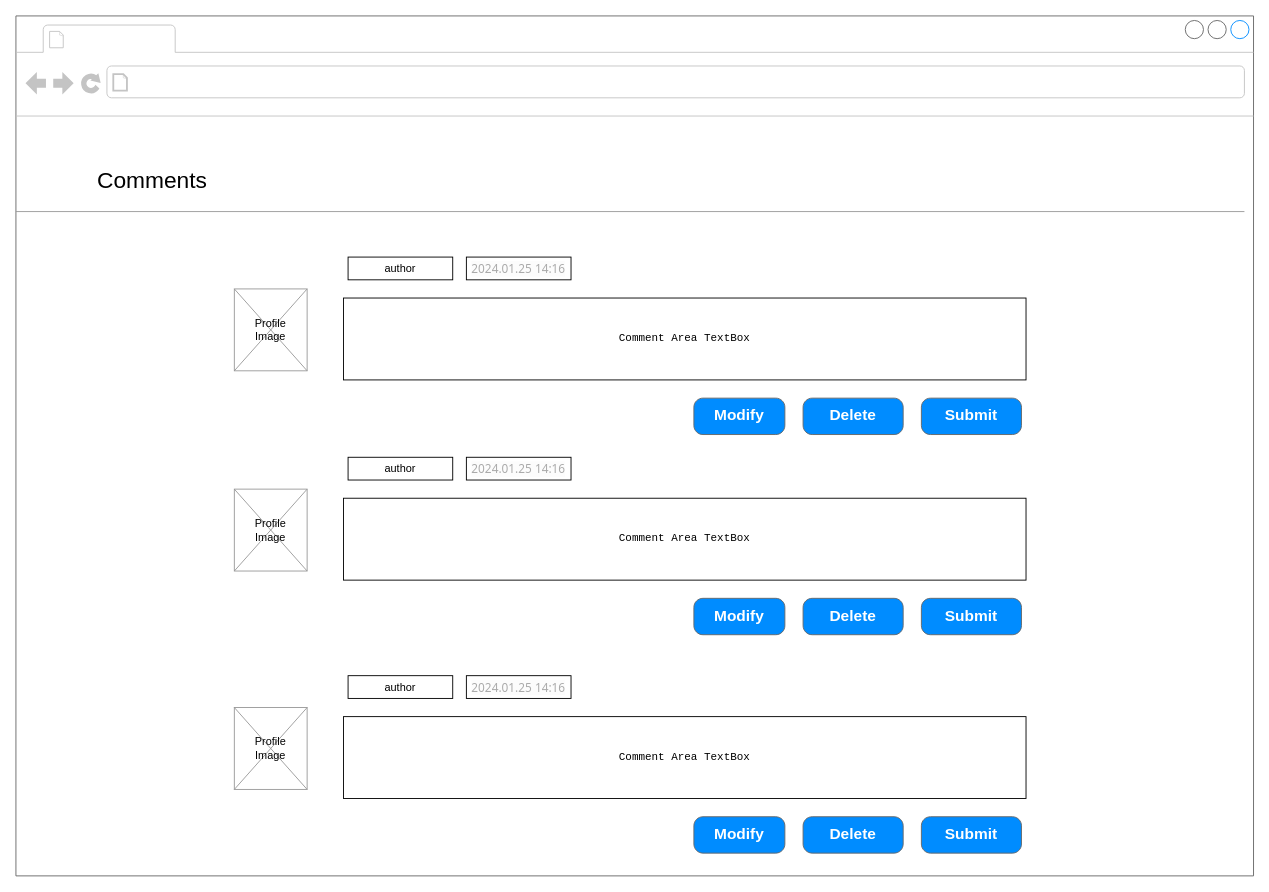
Some shapes in this 1269 by 892 pixel diagram are drawn without their labels. Each missing label, with the centre of its shape:
https://www.default.com: point (247, 82)
Page 1: point (120, 38)
